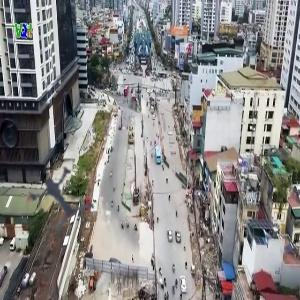drone: (16, 153, 98, 235)
